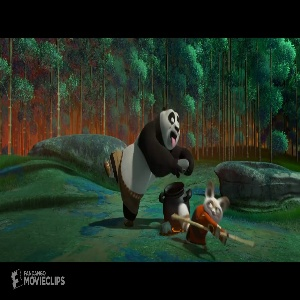po: (101, 105, 195, 229)
shifu: (186, 179, 230, 251)
